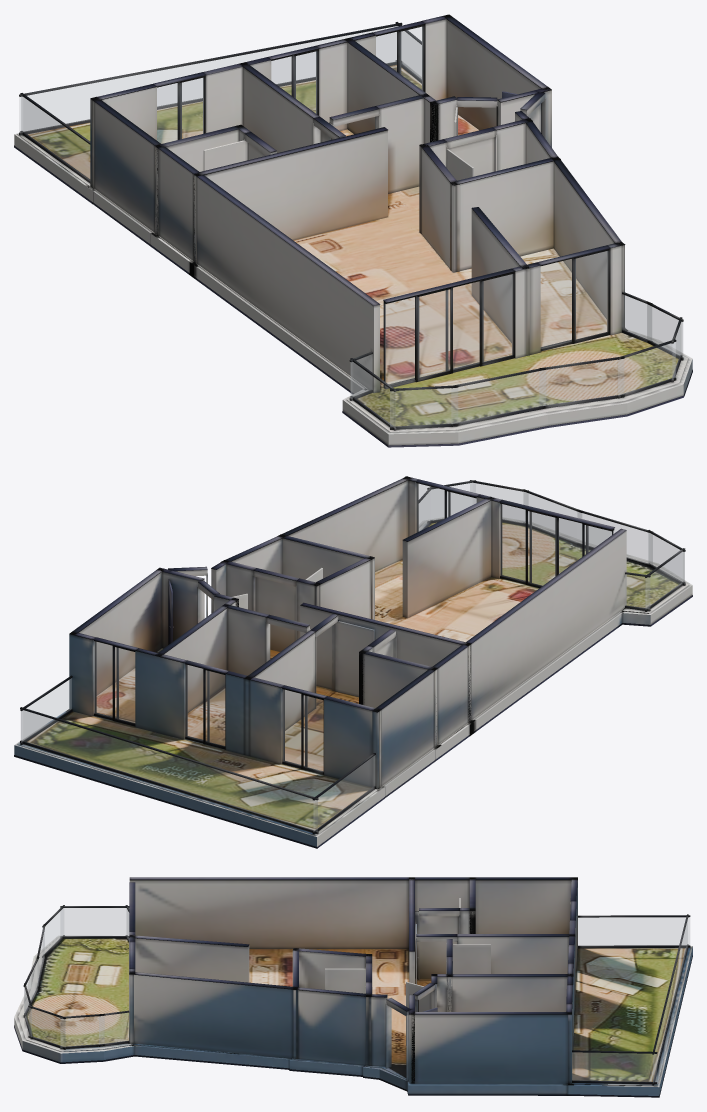
3 views of the same model, one above another, from view 1: azimuth 30°, elevation 25°; view 2: azimuth 150°, elevation 25°; view 3: azimuth 270°, elevation 25° (orthographic). The views are drawn at different scales.
Visible parts, largest first — view 1: plan, glass3_m, railg0_m, glass4_m, railg8_m, railg7_m, glass0_m, railg2_m, railg9_m, railg6_m, glass2_m, glass1_m (+5 smaller); view 2: plan, railg0_m, glass3_m, glass2_m, glass0_m, glass1_m, railg2_m, glass4_m, railg1_m, railg8_m, railg7_m, railg10_m (+4 smaller); view 3: plan, railg2_m, railg1_m, railg10_m, railg4_m, railg5_m, railg0_m, railg3_m, railg9_m, railg7_m.
Part boxes in pixels (x1,y1,x2,y2): plan: (14,14,692,447); glass3_m: (385,274,512,386); railg0_m: (19,26,397,132); glass4_m: (541,251,607,348); railg8_m: (451,370,545,423); railg7_m: (540,359,623,405); glass0_m: (157,78,203,143); railg2_m: (21,97,89,179); railg9_m: (390,388,457,426); railg6_m: (618,342,675,395); glass2_m: (376,27,422,89); glass1_m: (271,51,316,113); plan: (14,476,692,848); railg0_m: (21,710,317,831); glass3_m: (500,504,613,585); glass2_m: (94,641,134,723); glass0_m: (283,689,323,771); glass1_m: (186,665,224,746); railg2_m: (313,756,374,831); glass4_m: (417,483,476,531); railg1_m: (21,678,71,742); railg8_m: (577,512,652,564); railg7_m: (524,492,581,543); railg10_m: (645,552,683,609); plan: (14,877,692,1097); railg2_m: (578,917,689,945); railg1_m: (572,1052,656,1081); railg10_m: (61,908,128,935); railg4_m: (60,1016,104,1046); railg5_m: (29,1007,65,1047); railg0_m: (653,921,687,1082); railg3_m: (99,1013,128,1044); railg9_m: (43,908,63,955); railg7_m: (24,960,38,1015).
Bounding box in the file's own units: 10.64 × 2.62 × 20.1.
2 materials, 1 textured.
